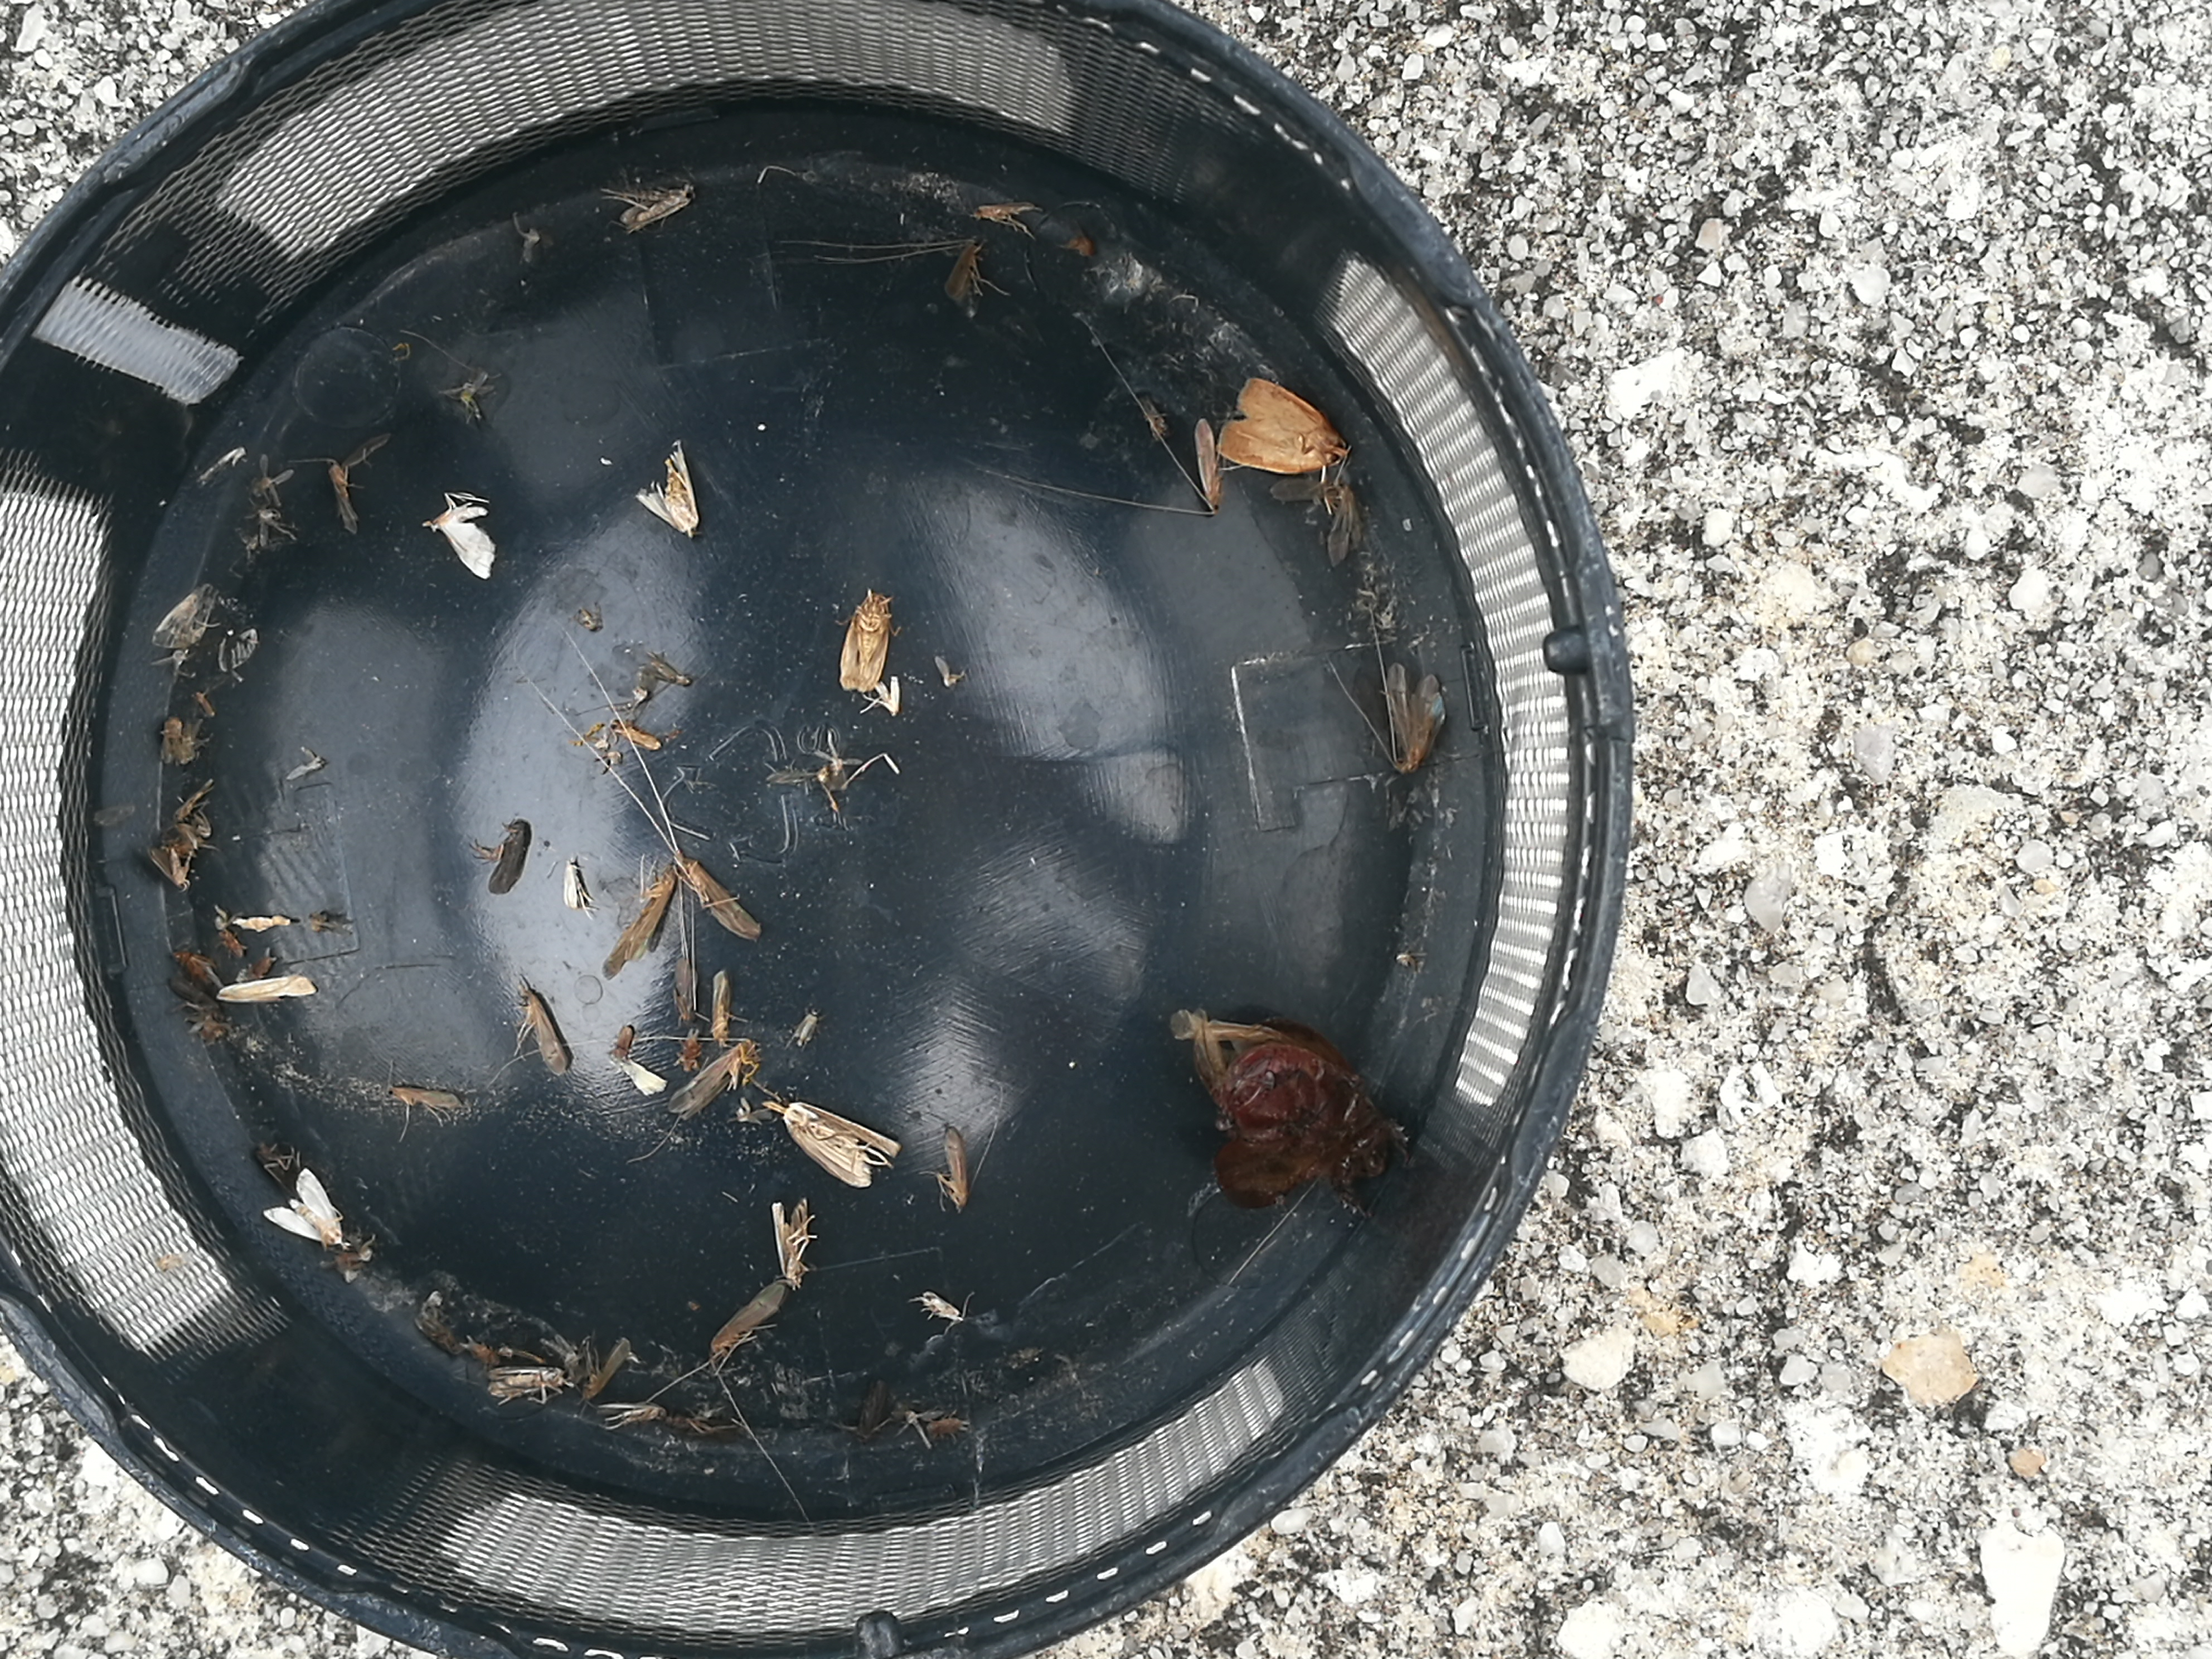beetle: (1223, 1046, 1386, 1180)
mosquito: (603, 868, 674, 974), (679, 857, 763, 939), (709, 1286, 782, 1358), (672, 1049, 751, 1110), (617, 179, 695, 228), (524, 988, 566, 1072), (773, 1197, 810, 1281), (489, 821, 531, 894), (488, 1366, 564, 1401), (949, 237, 986, 298), (1195, 420, 1219, 511), (946, 1133, 968, 1208), (711, 971, 733, 1044), (387, 1086, 460, 1108), (977, 202, 1040, 225)
moth: (1216, 380, 1343, 474), (786, 1103, 900, 1188), (1386, 666, 1444, 774), (263, 1169, 341, 1244), (838, 591, 892, 692), (430, 498, 495, 579), (639, 453, 698, 533)
